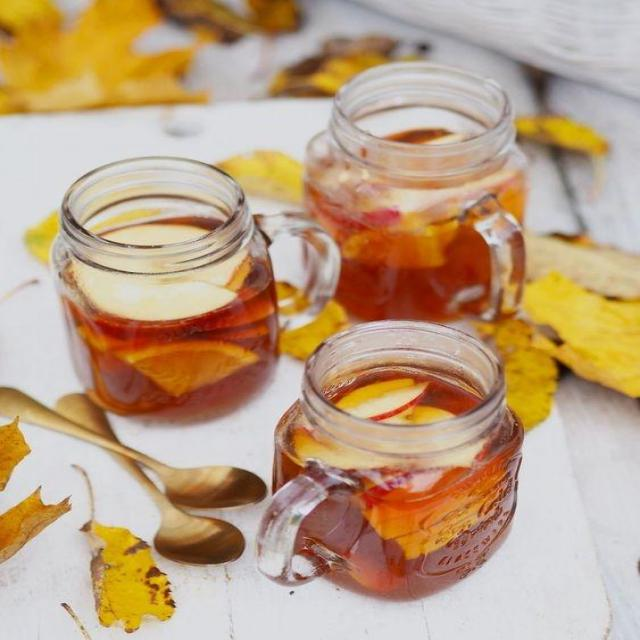glass-mug: (249, 317, 531, 602), (47, 152, 343, 420), (299, 60, 532, 328)
